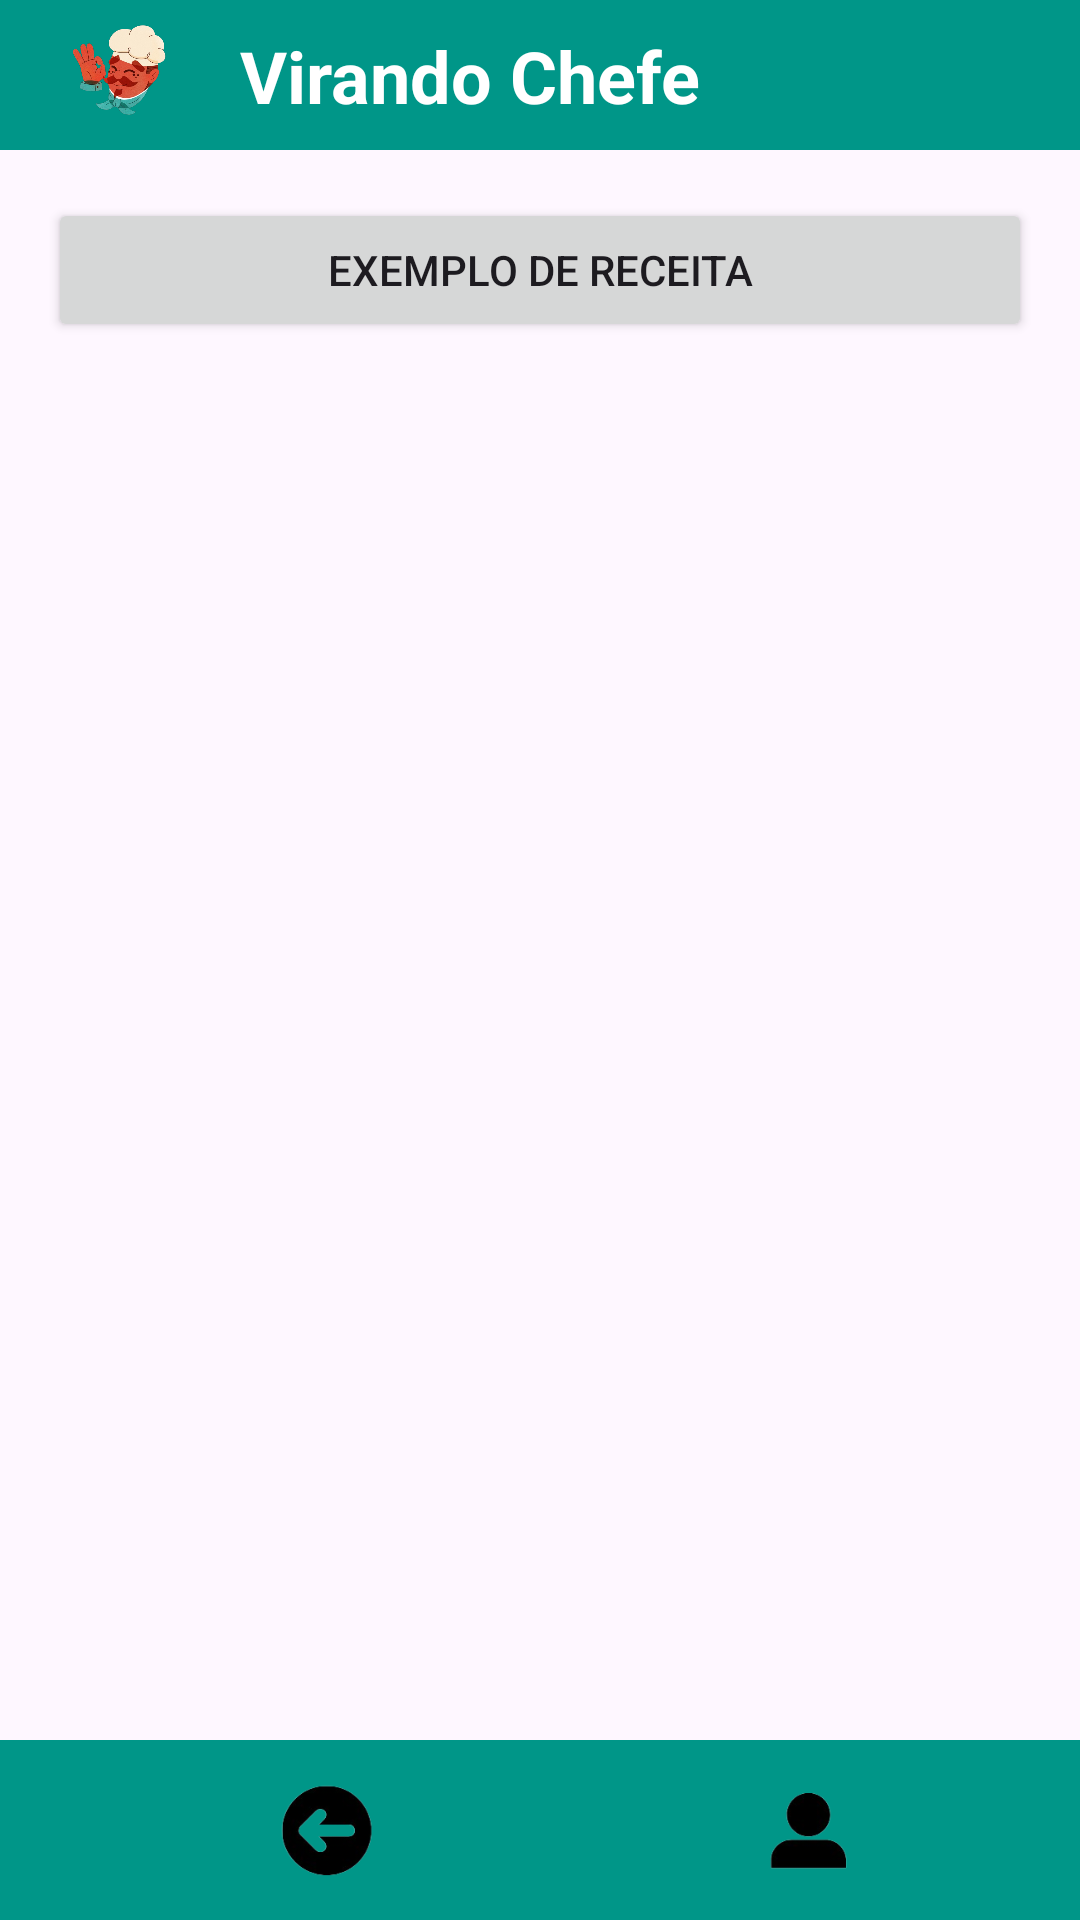

Named icons in this screenshot (1080px x 1920px) and their bounding boxes, rect(x1, y1, x2, y2):
Perfil: rect(770, 1793, 847, 1869)
